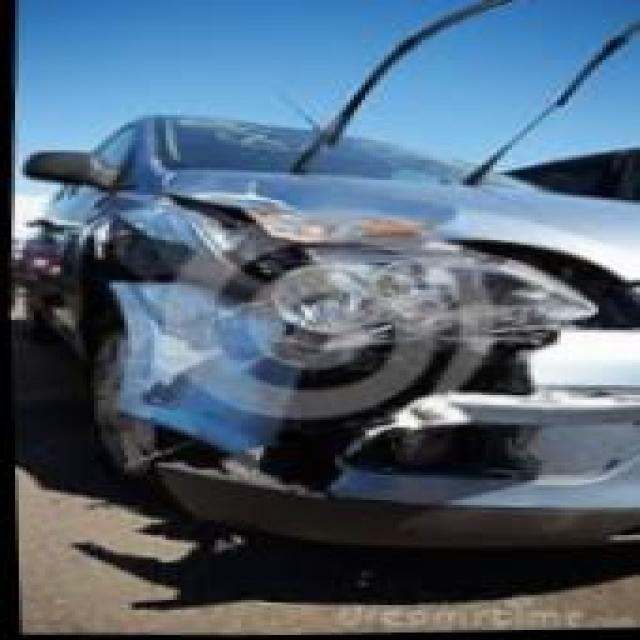Bonnet: (144, 171, 314, 278)
Bumper: (123, 332, 638, 531)
Fender: (88, 195, 196, 332)
Light: (197, 243, 640, 356)
